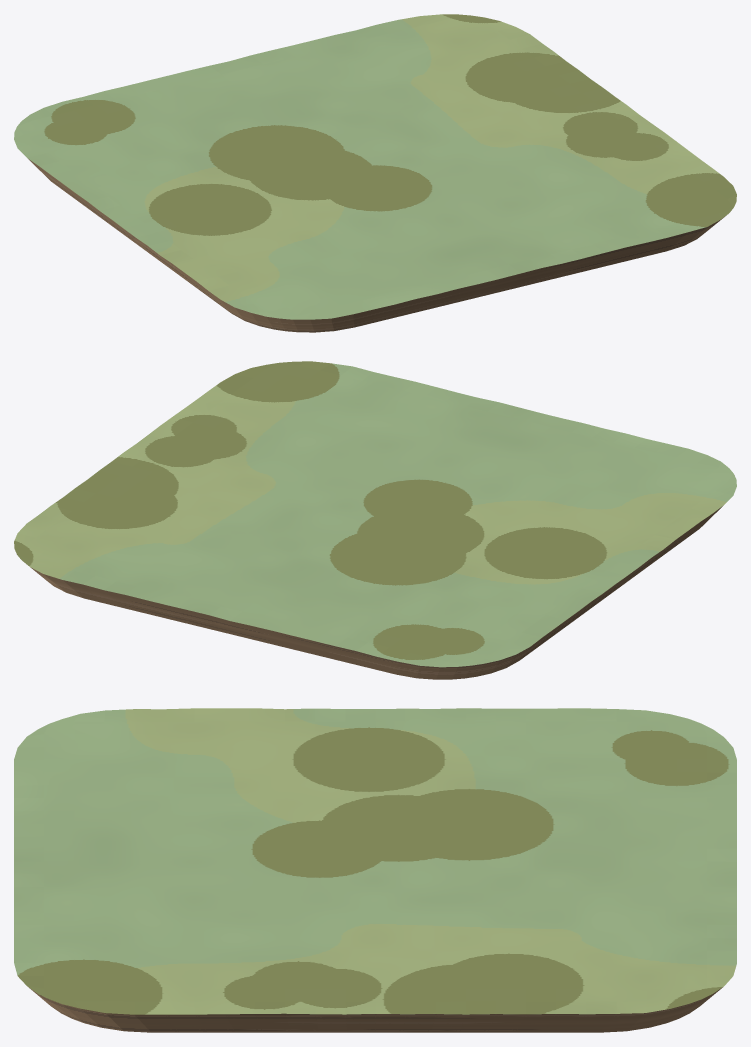
The model's file is ground.glb.
The picture shows the model from 3 angles, top to bottom: view 1: azimuth 30°, elevation 25°; view 2: azimuth 150°, elevation 25°; view 3: azimuth 270°, elevation 25°; orthographic projection. The views are drawn at different scales.
Parts seen in each view (by area): view 1: Ground_Top, Ground_Sides; view 2: Ground_Top, Ground_Sides; view 3: Ground_Top, Ground_Sides.
Part boxes in pixels (left/top/right/bottom): Ground_Top: left=14, top=14, right=736, bottom=319; Ground_Sides: left=28, top=159, right=726, bottom=332; Ground_Top: left=14, top=361, right=736, bottom=667; Ground_Sides: left=30, top=506, right=722, bottom=679; Ground_Top: left=14, top=708, right=736, bottom=1014; Ground_Sides: left=28, top=987, right=722, bottom=1032.
Size of the model in its own units: 18 by 0.8143 by 18.
Materials: 2 (2 with a texture image).
